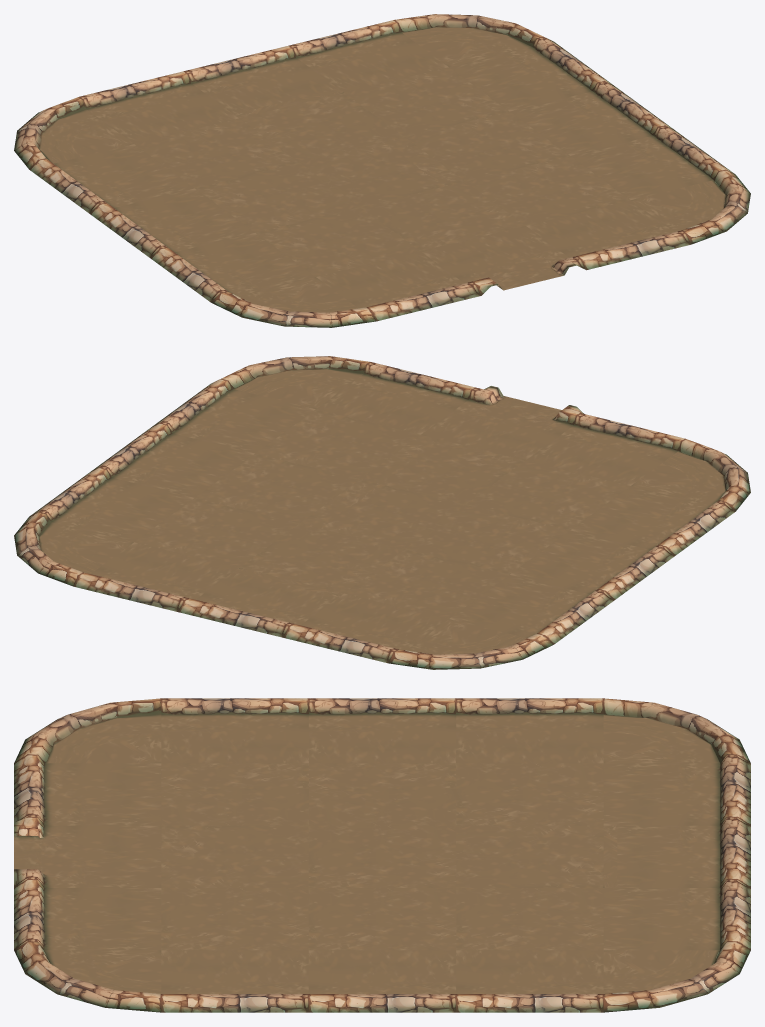
File: fbx_5x5_foundation.fbx
3 views of the same model, one above another, from view 1: azimuth 30°, elevation 25°; view 2: azimuth 150°, elevation 25°; view 3: azimuth 270°, elevation 25° (orthographic). The views are drawn at different scales.
Visible parts, largest first — view 1: middle_3.001; view 2: middle_3.001; view 3: middle_3.001.
Part boxes in pixels (x1,y1,x2,y2): middle_3.001: [14, 14, 750, 327]; middle_3.001: [14, 356, 750, 669]; middle_3.001: [14, 698, 750, 1012].
Size of the model in its own units: 4000 by 51.12 by 4000.
